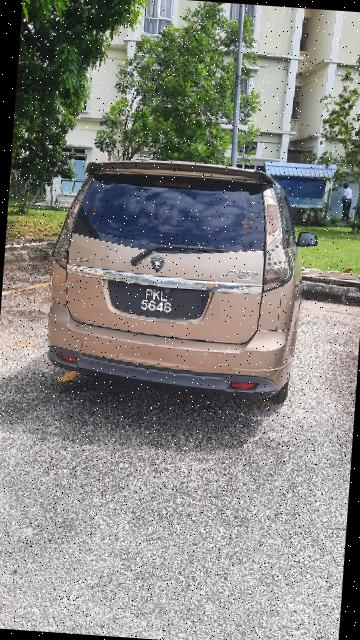License_Plate: (103, 280, 214, 324)
car: (40, 153, 318, 406)
